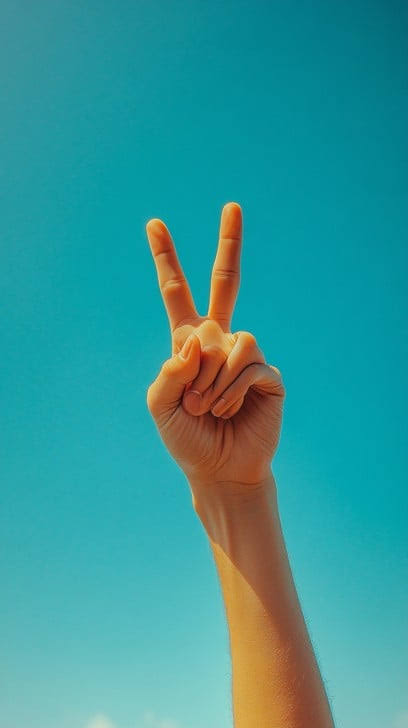peace_sign: (139, 198, 288, 494)
